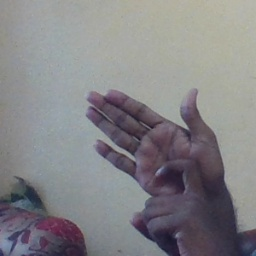R: (67, 80, 231, 248)
